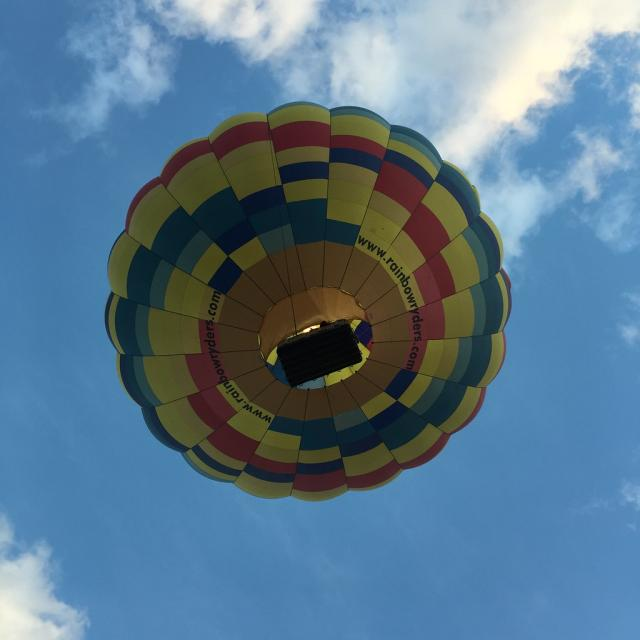balloon: (104, 100, 513, 503)
